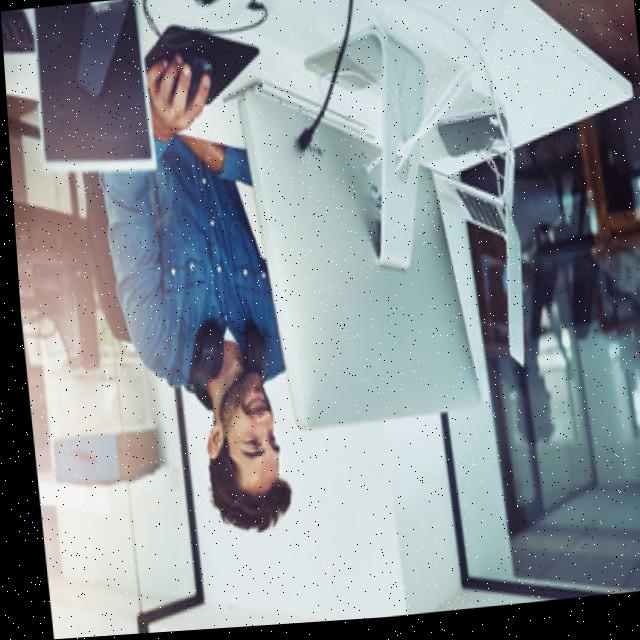desktop-person: (79, 8, 497, 559)
